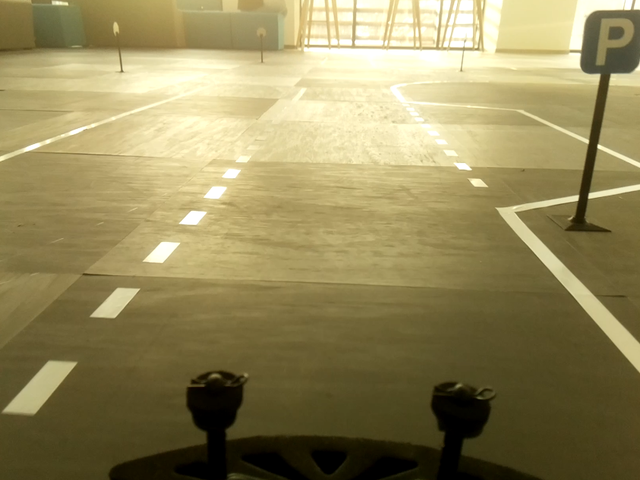parking: (580, 10, 640, 72)
